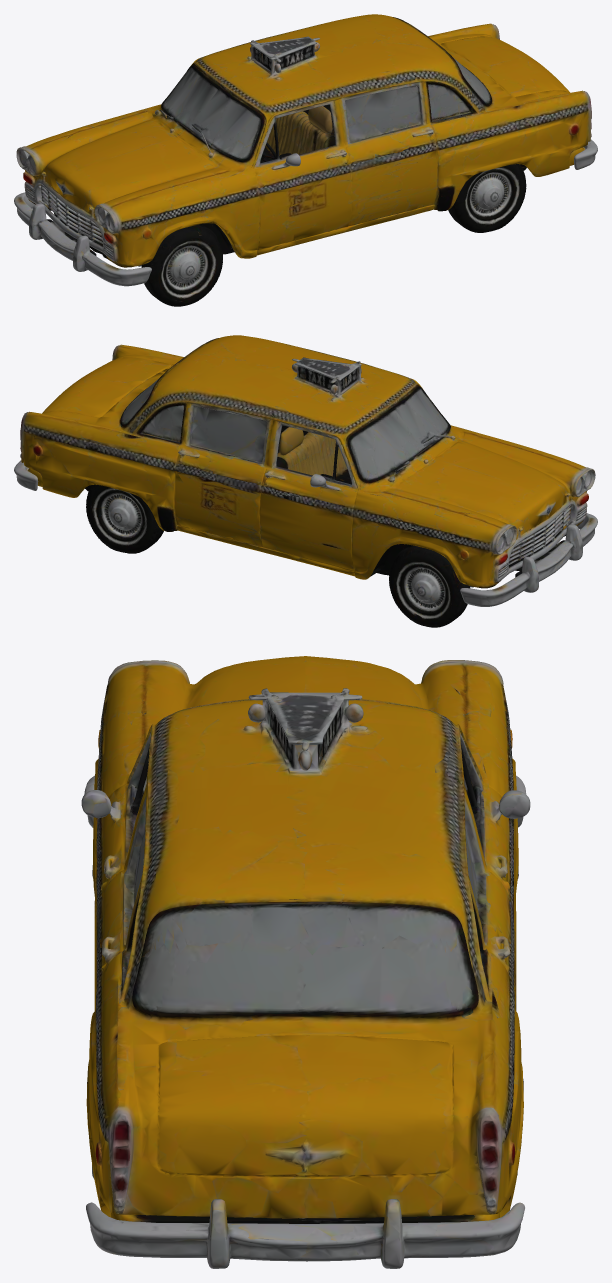
Rendered from yellow-taxi-SHRINK.glb.
3 renders of one model, top to bottom at view 1: azimuth 30°, elevation 25°; view 2: azimuth 150°, elevation 25°; view 3: azimuth 270°, elevation 25°, orthographic. The views are drawn at different scales.
Visible parts, largest first — view 1: object 1, Wheel_FL, Wheel_RL; view 2: object 1, Wheel_FR, Wheel_RR; view 3: object 1.
Boxes of the visible parts, box(x1,y1,x2,y2) form: object 1: box(14, 14, 597, 286); Wheel_FL: box(141, 224, 222, 306); Wheel_RL: box(448, 164, 526, 232); object 1: box(14, 335, 597, 606); Wheel_FR: box(389, 545, 470, 627); Wheel_RR: box(86, 484, 163, 553); object 1: box(81, 656, 530, 1268).
Size of the model in its own units: 1.9 by 0.6808 by 0.7313.
1 material, 1 textured.
